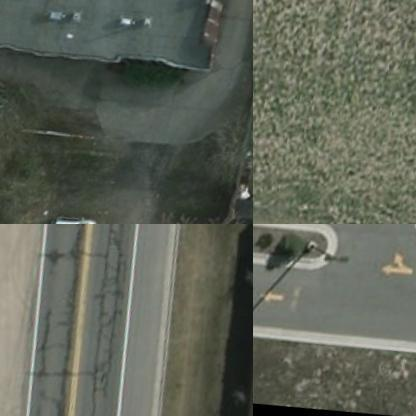car: (46, 212, 107, 223)
